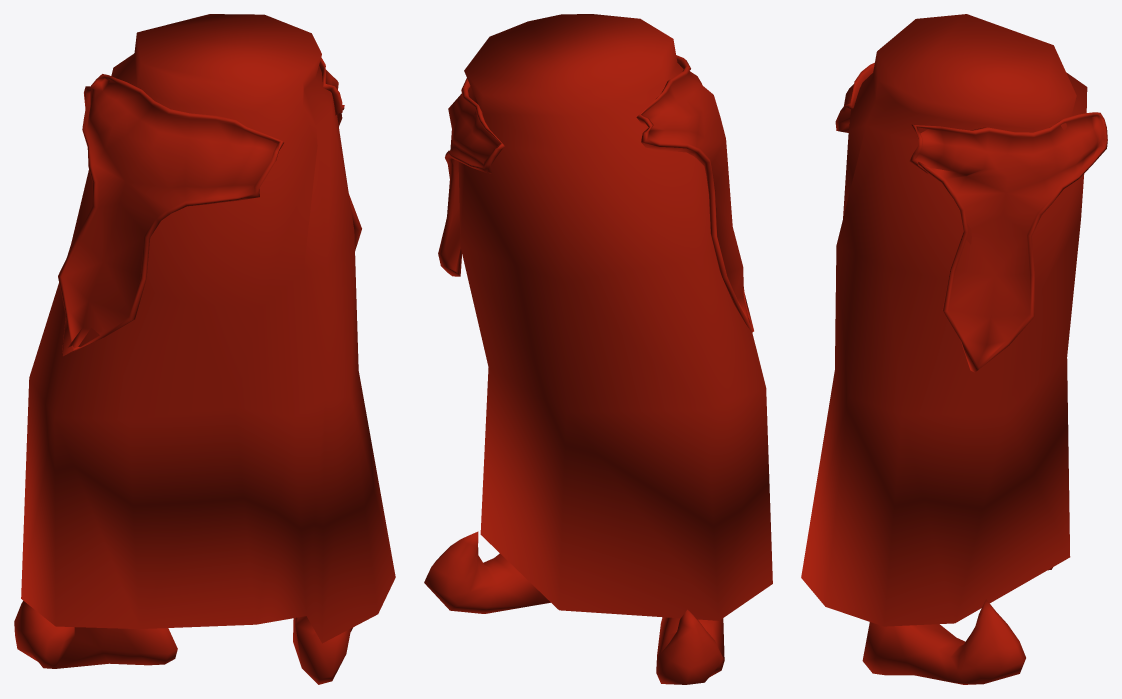
The model's file is bot_000056.obj.
The picture shows the model from 3 angles, left to right: view 1: azimuth 30°, elevation 25°; view 2: azimuth 150°, elevation 25°; view 3: azimuth 270°, elevation 25°; orthographic projection. The views are drawn at different scales.
Visible parts, largest first — view 1: LowPoly_Warlock.004_Plane.004; view 2: LowPoly_Warlock.004_Plane.004; view 3: LowPoly_Warlock.004_Plane.004.
Boxes of the visible parts, left/top/right/bottom form: LowPoly_Warlock.004_Plane.004: left=14, top=14, right=395, bottom=684; LowPoly_Warlock.004_Plane.004: left=424, top=14, right=772, bottom=684; LowPoly_Warlock.004_Plane.004: left=801, top=14, right=1107, bottom=684.
Bounding box in the file's own units: 0.6222 × 1.14 × 0.5306.
